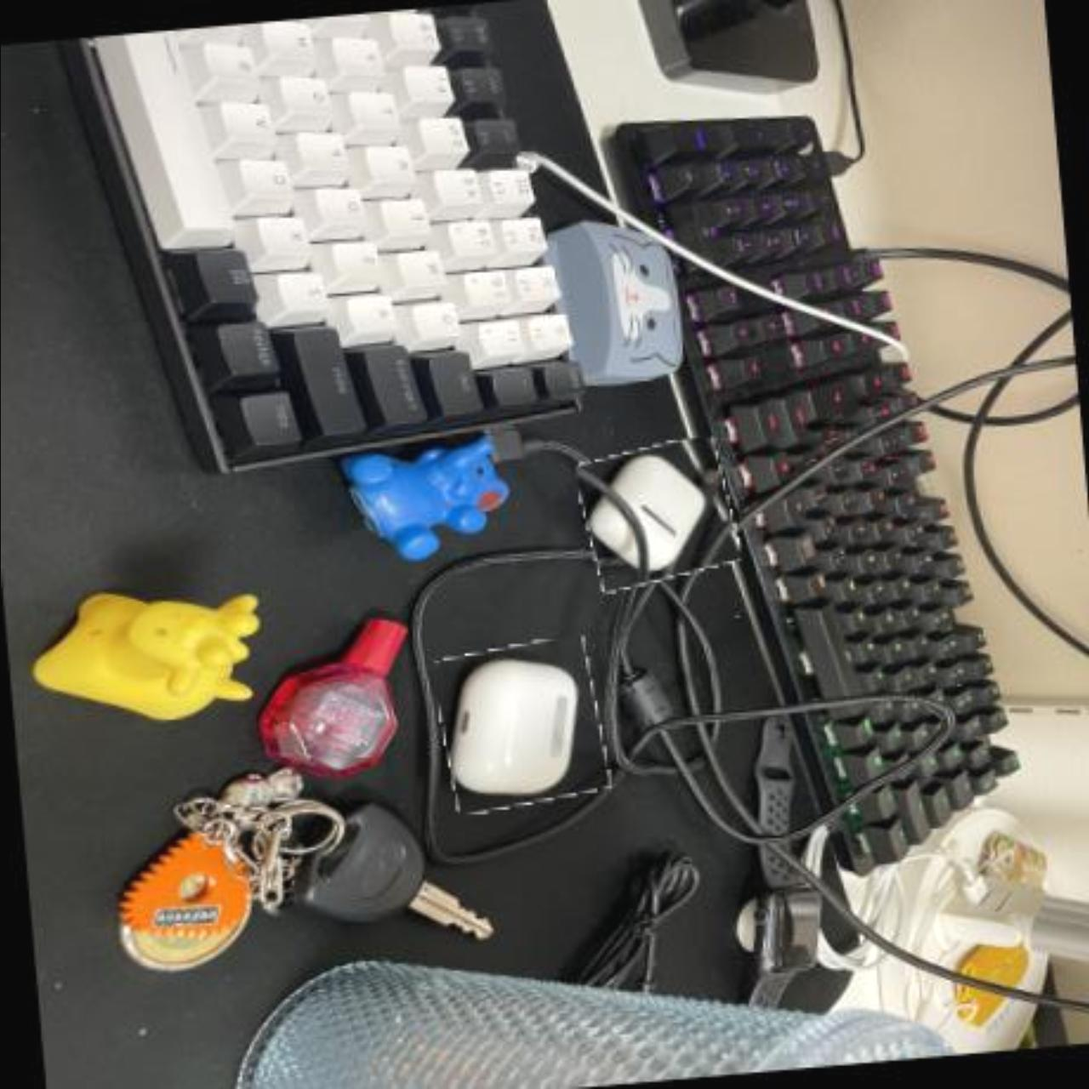AirPods: (433, 637, 608, 811), (576, 439, 736, 590)
